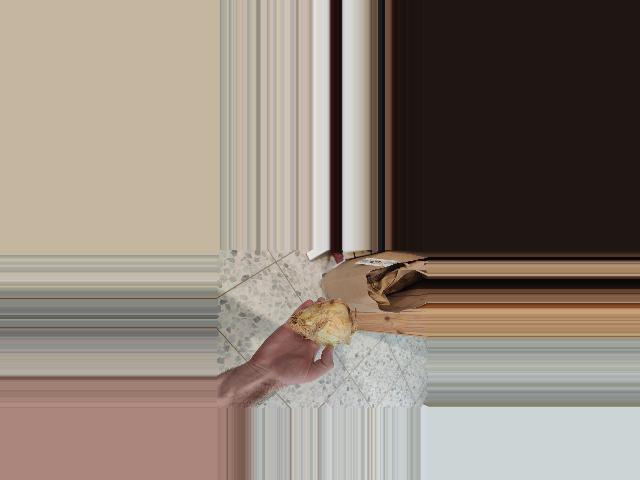onion: (285, 298, 358, 348)
